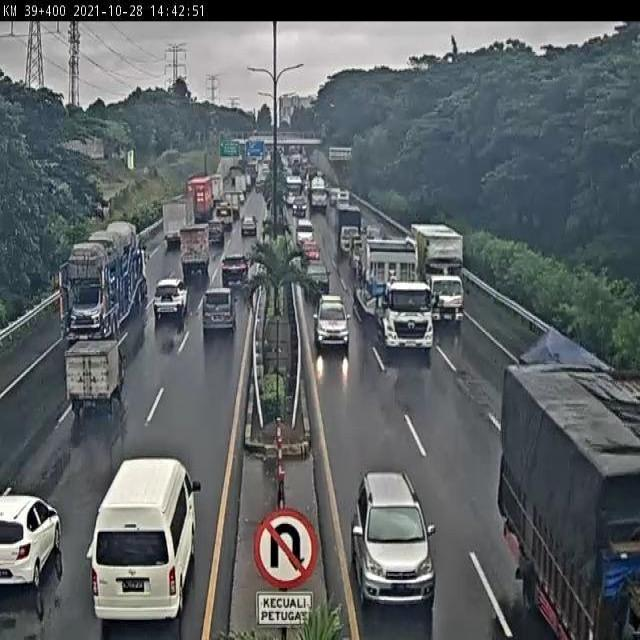big truck: (62, 217, 146, 332)
car: (352, 471, 431, 600), (0, 493, 61, 584), (315, 295, 352, 348), (202, 286, 236, 331), (153, 276, 184, 312), (304, 260, 331, 299), (221, 256, 249, 284), (299, 239, 321, 265)
small bus: (91, 458, 198, 618)
small truck: (64, 336, 122, 403)
truck-l-: (412, 226, 465, 322)
truck-m-: (335, 203, 363, 256), (181, 223, 210, 269)
truck-xl-: (359, 235, 440, 346)
